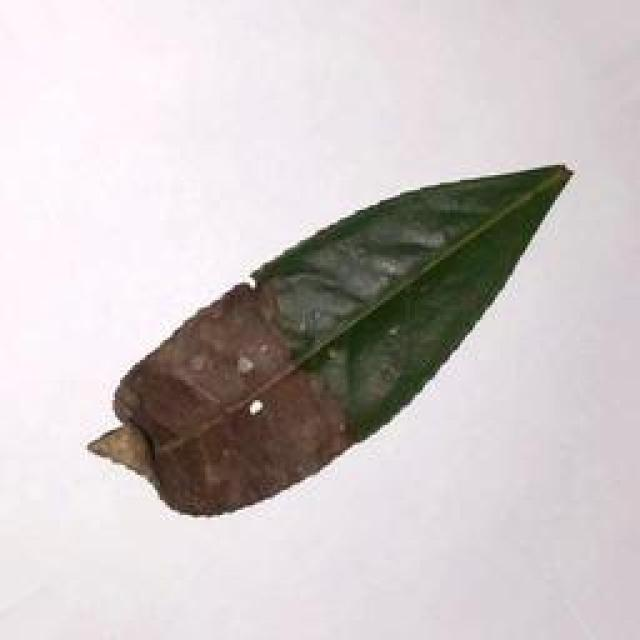Brown Blight: (75, 143, 584, 516)
